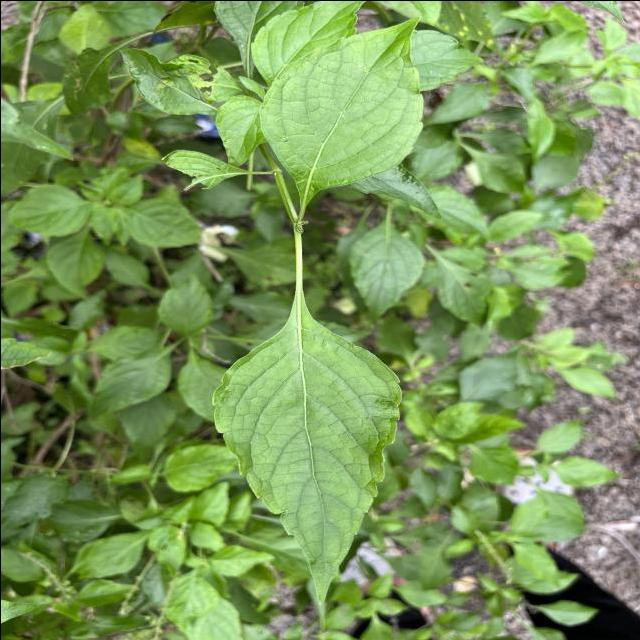Ocimum gratissimum: (205, 262, 405, 612), (254, 8, 426, 217), (244, 0, 367, 89)
